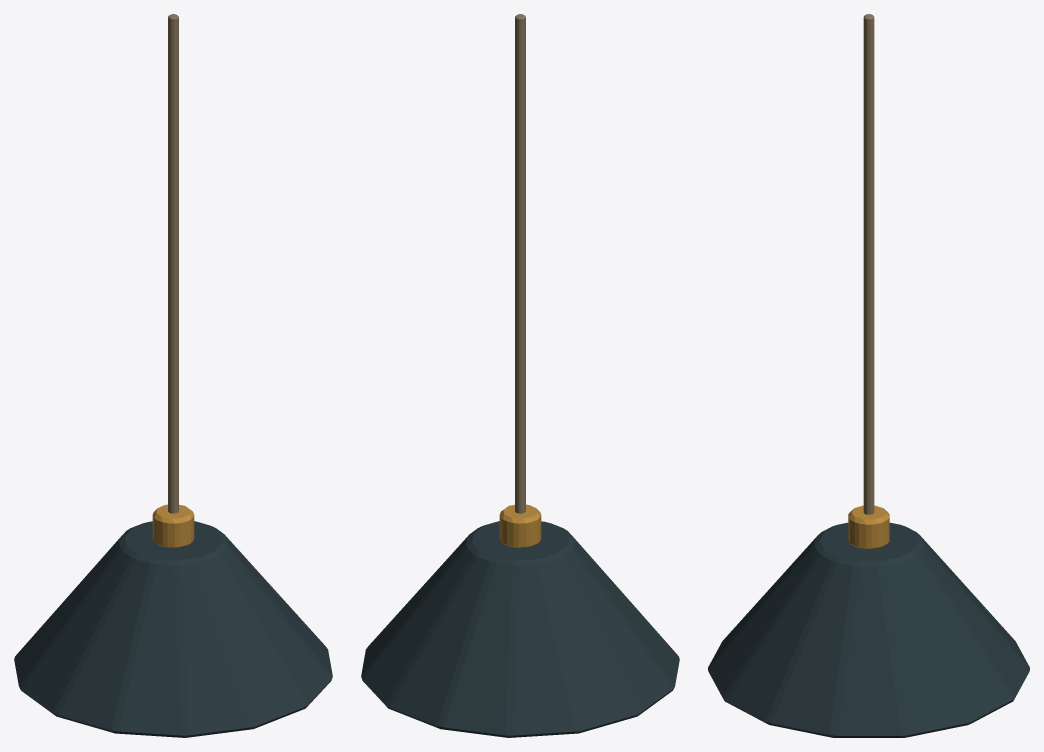
Rendered from lamp-pendant.glb.
3 views of the same model, side by side, from view 1: azimuth 30°, elevation 25°; view 2: azimuth 150°, elevation 25°; view 3: azimuth 270°, elevation 25° (orthographic).
Visible parts, largest first — view 1: lamp-fitting; view 2: lamp-fitting; view 3: lamp-fitting.
Boxes of the visible parts, x1=… form: lamp-fitting: x1=14, y1=14, x2=332, y2=737; lamp-fitting: x1=361, y1=14, x2=679, y2=737; lamp-fitting: x1=708, y1=14, x2=1029, y2=737.
Size of the model in its own units: 0.6533 by 1.5 by 0.667.
2 materials, 1 textured.
